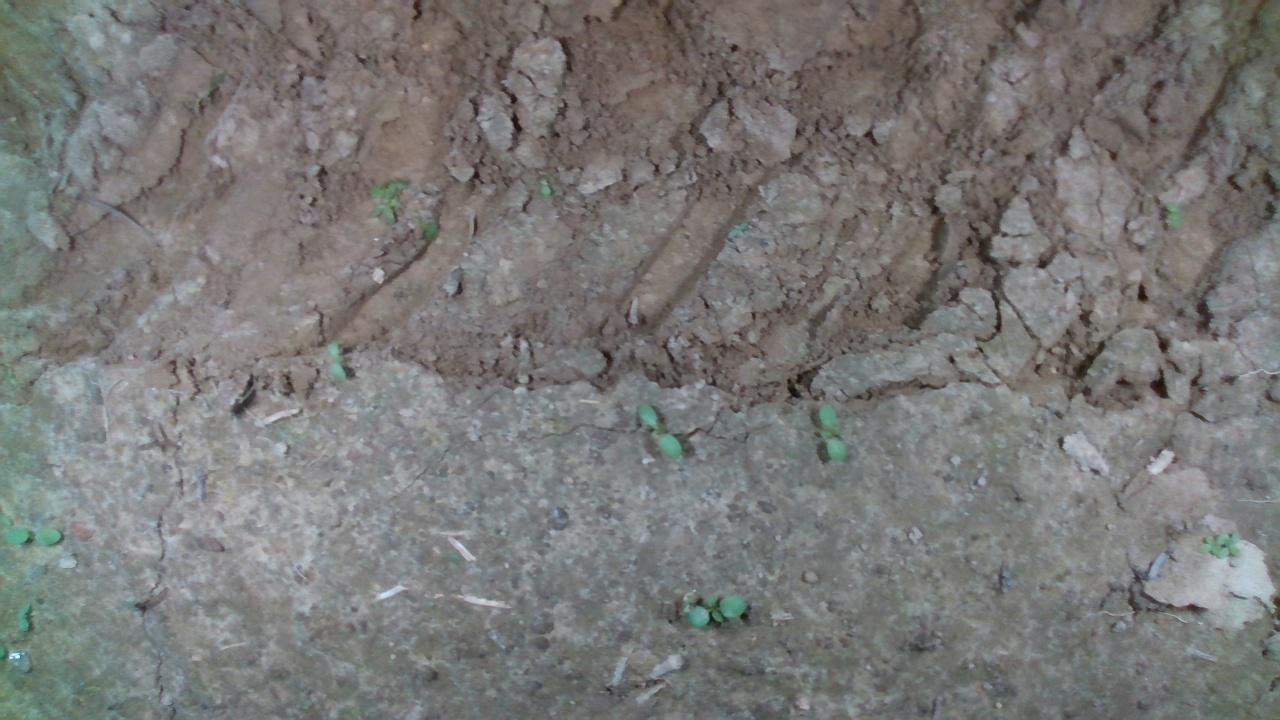weed: (636, 400, 683, 458), (683, 590, 748, 628), (816, 400, 847, 461), (2, 522, 63, 545), (324, 336, 347, 384), (12, 599, 31, 632)
